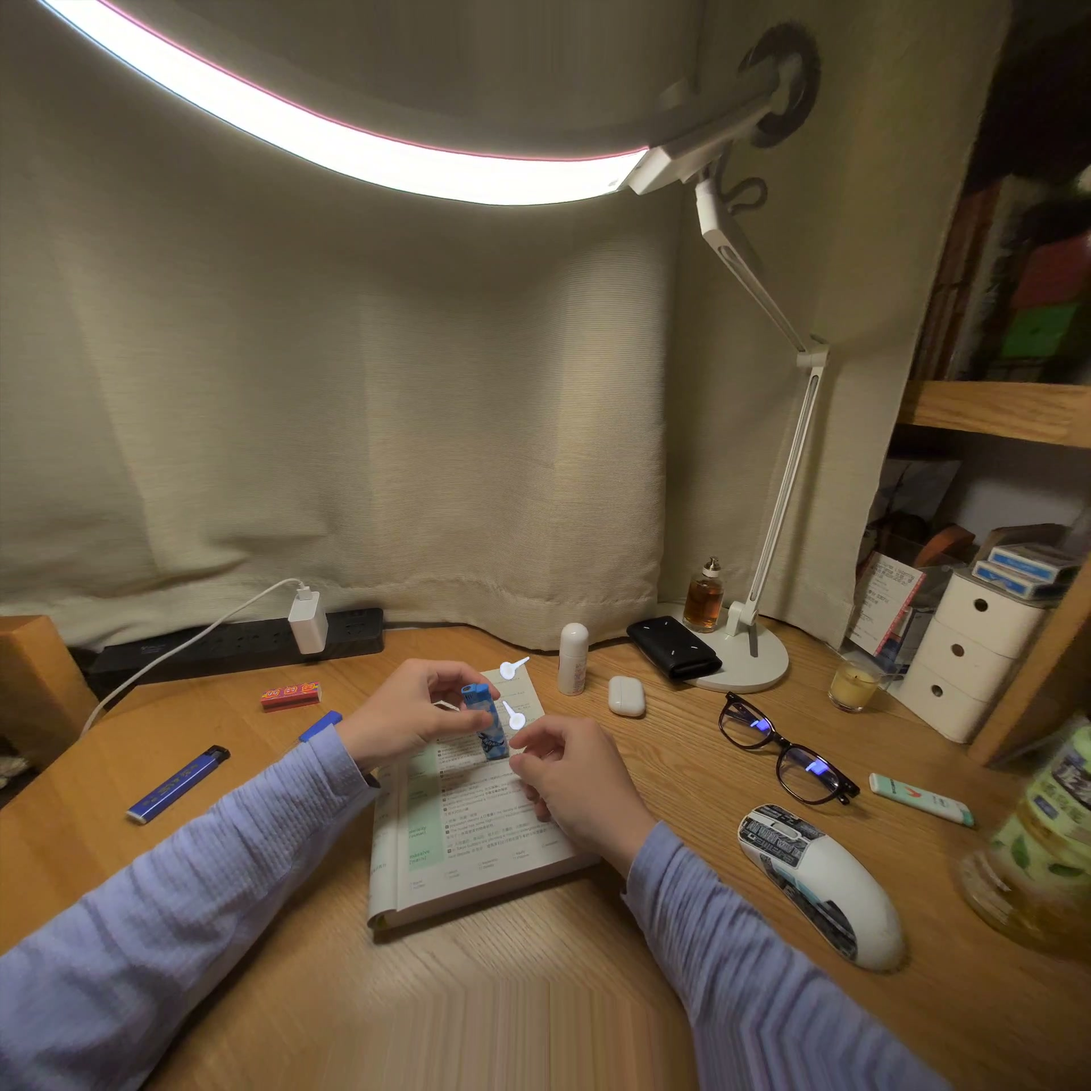lighter: (461, 684, 508, 760)
